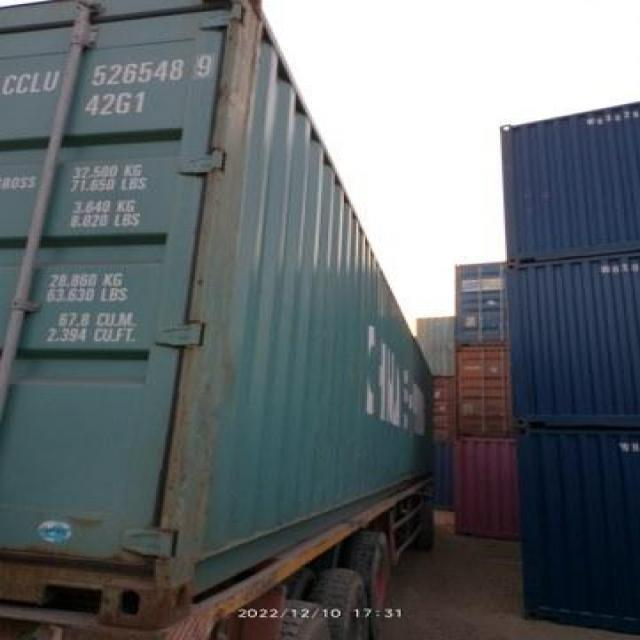ISO: (81, 93, 142, 119)
container_number: (3, 59, 205, 89)
